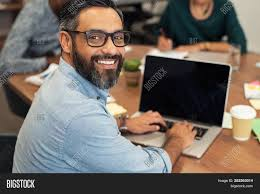middle_eastern_male: (74, 4, 130, 78)
